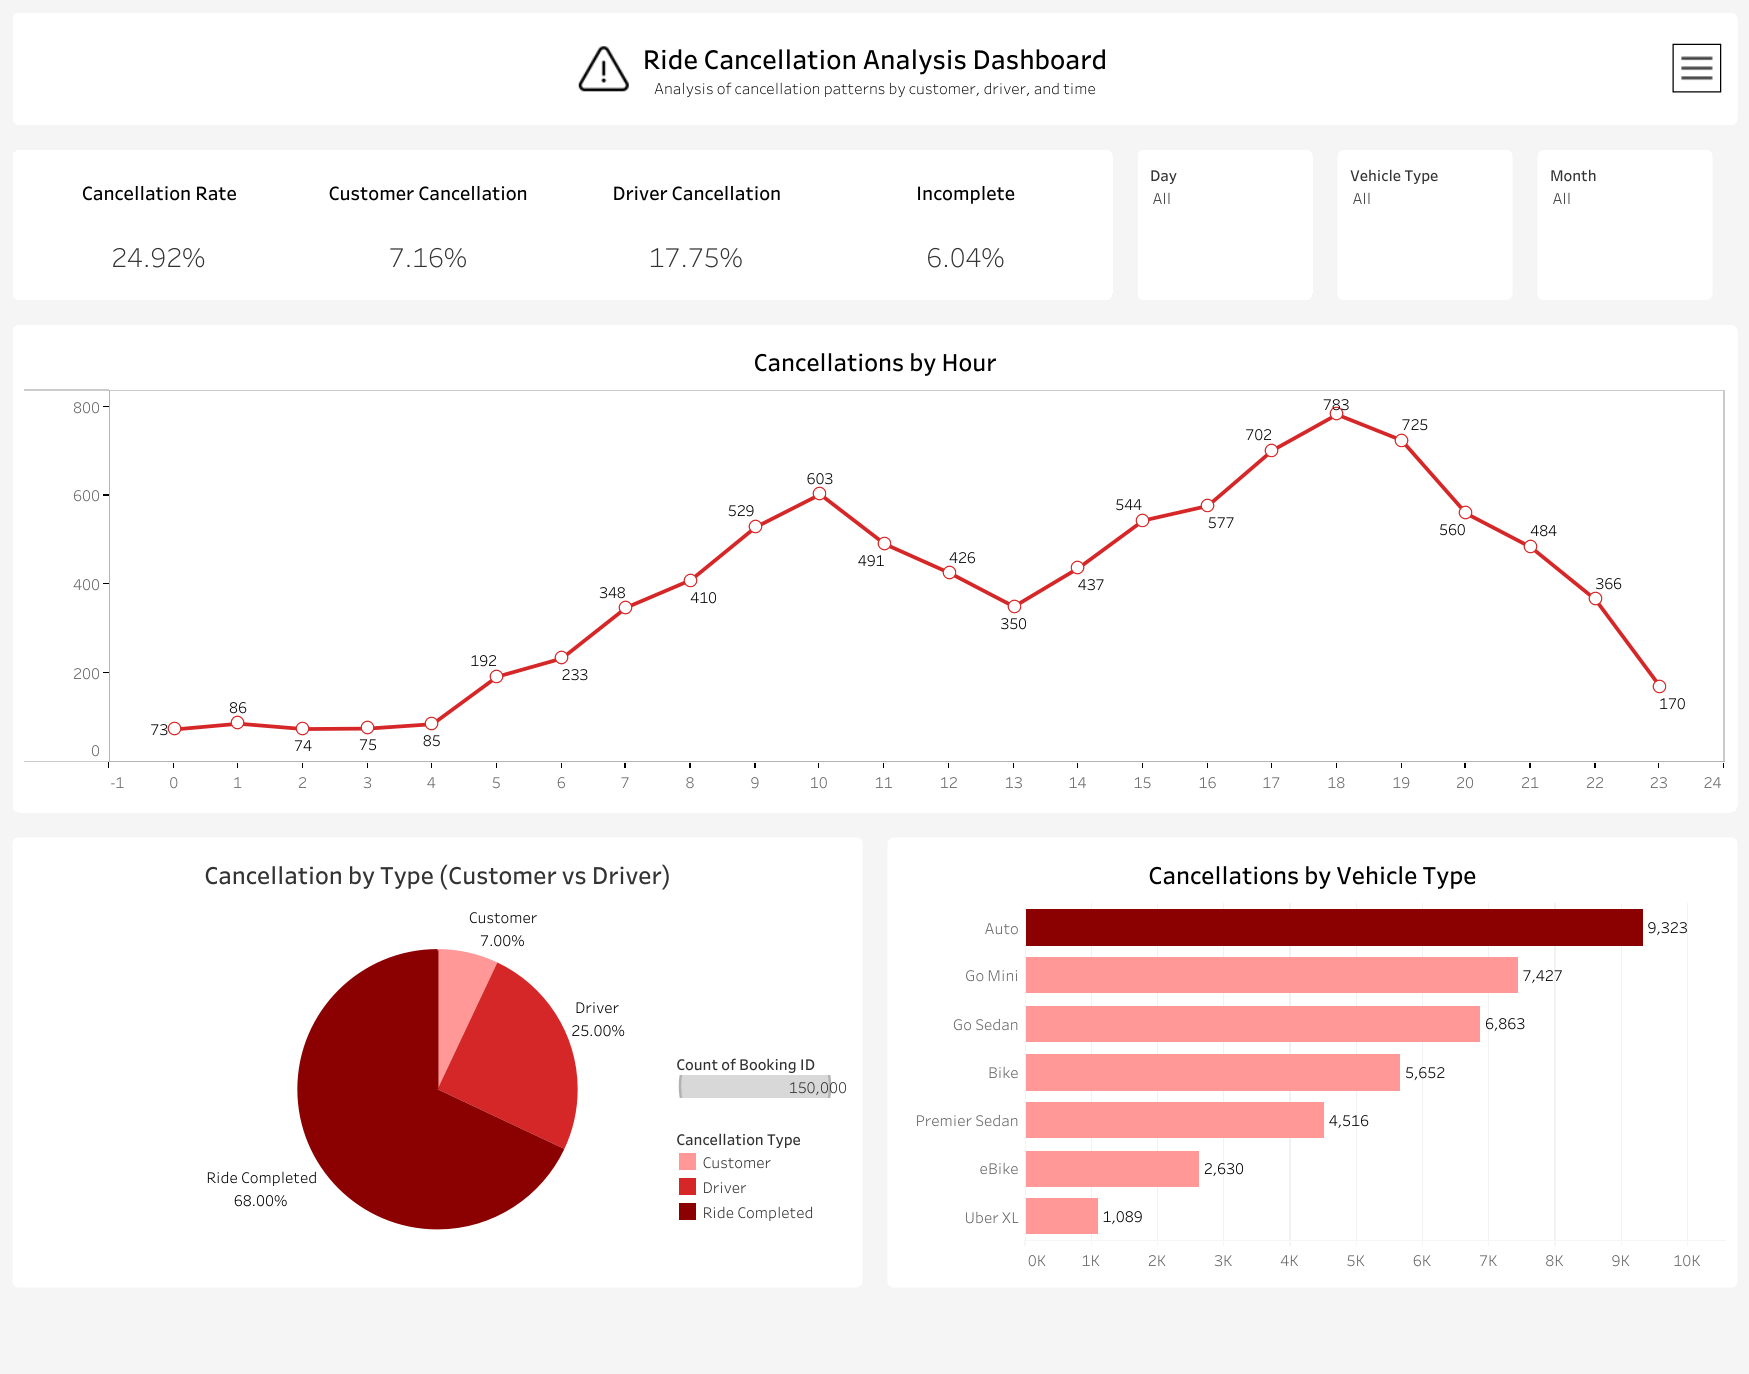

The page's visual inventory and layout, read from the dashboard file:
{"tool":"tableau","page":{"name":"Ride Cancellation Analysis-D3","canvas":[1400,1100],"ordinal":1},"visuals":[{"type":"text","box":[0,0,1400,110]},{"type":"image","param":"Image/alert.png","box":[402,30,50,50]},{"type":"dashboard-object","box":[1335,32,45,45]},{"type":"dashboard-object","box":[961,33,65,63]},{"type":"dashboard-object","box":[1026,33,303,63]},{"type":"dashboard-object","box":[961,96,65,62]},{"type":"dashboard-object","box":[1026,96,303,62]},{"type":"worksheet","title":"Dashboard3-KPIs","mark":"Automatic","box":[0,110,900,140]},{"type":"filter","title":"Cancellations by Hour-D3","param":"[federated.0se9qb00quoxq71br9lkd1jezced].[none:Day:nk]","box":[900,110,160,140]},{"type":"filter","title":"Cancellation by Type (Customer vs Driver)-D3","param":"[federated.0se9qb00quoxq71br9lkd1jezced].[none:Vehicle Type:nk]","box":[1060,110,160,140]},{"type":"filter","title":"Cancellations by Vehicle Type-D3","param":"[federated.0se9qb00quoxq71br9lkd1jezced].[none:Month:nk]","box":[1220,110,160,140]},{"type":"dashboard-object","box":[961,158,65,62]},{"type":"dashboard-object","box":[1026,158,303,62]},{"type":"worksheet","title":"Cancellations by Hour-D3","mark":"Line","rows":["Booking ID","Booking ID"],"cols":["Hour"],"box":[0,250,1400,410]},{"type":"worksheet","title":"Cancellation by Type (Customer vs Driver)-D3","mark":"Pie","box":[0,660,700,380]},{"type":"worksheet","title":"Cancellations by Vehicle Type-D3","mark":"Automatic","rows":["Vehicle Type"],"cols":["Booking ID"],"box":[700,660,700,380]},{"type":"legend","title":"Cancellation by Type (Customer vs Driver)-D3","param":"[federated.0se9qb00quoxq71br9lkd1jezced].[cnt:Booking ID:qk]","box":[540,840,140,45]},{"type":"legend","title":"Cancellation by Type (Customer vs Driver)-D3","param":"[federated.0se9qb00quoxq71br9lkd1jezced].[none:Cancellation Type:nk]","box":[540,900,140,85]}]}

Visuals, with their boxes in screenshot pixels (x1, y1, x2, y2), scaled from the page's 1400x1100 canvas onto the 1749x1374 screenshot:
text: crop(0, 0, 1748, 137)
image: crop(502, 37, 565, 100)
dashboard-object: crop(1668, 40, 1724, 96)
dashboard-object: crop(1201, 41, 1282, 120)
dashboard-object: crop(1282, 41, 1660, 120)
dashboard-object: crop(1201, 120, 1282, 197)
dashboard-object: crop(1282, 120, 1660, 197)
"Dashboard3-KPIs" worksheet: crop(0, 137, 1124, 312)
"Cancellations by Hour-D3" filter: crop(1124, 137, 1324, 312)
"Cancellation by Type (Customer vs Driver)-D3" filter: crop(1324, 137, 1524, 312)
"Cancellations by Vehicle Type-D3" filter: crop(1524, 137, 1724, 312)
dashboard-object: crop(1201, 197, 1282, 275)
dashboard-object: crop(1282, 197, 1660, 275)
"Cancellations by Hour-D3" worksheet (Line marks): crop(0, 312, 1748, 824)
"Cancellation by Type (Customer vs Driver)-D3" worksheet (Pie marks): crop(0, 824, 874, 1299)
"Cancellations by Vehicle Type-D3" worksheet: crop(874, 824, 1748, 1299)
"Cancellation by Type (Customer vs Driver)-D3" legend: crop(675, 1049, 850, 1105)
"Cancellation by Type (Customer vs Driver)-D3" legend: crop(675, 1124, 850, 1230)
